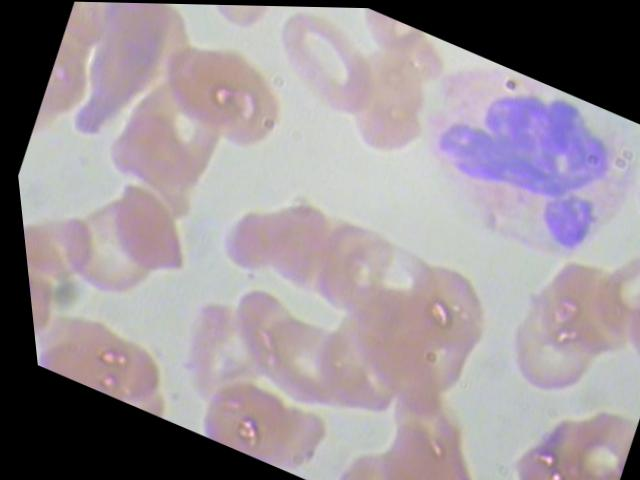Red Blood Cells: (192, 275, 353, 424), (141, 286, 291, 431), (477, 261, 621, 411), (87, 72, 236, 216), (317, 32, 454, 170), (367, 249, 503, 383), (166, 37, 300, 168), (41, 188, 174, 316), (251, 4, 390, 126), (179, 368, 310, 473), (82, 178, 202, 288), (140, 31, 260, 141), (241, 186, 348, 300), (16, 191, 108, 318), (477, 403, 625, 479), (331, 409, 475, 479), (199, 185, 297, 287), (182, 3, 299, 48)
White Blood Cells: (381, 38, 639, 282)
